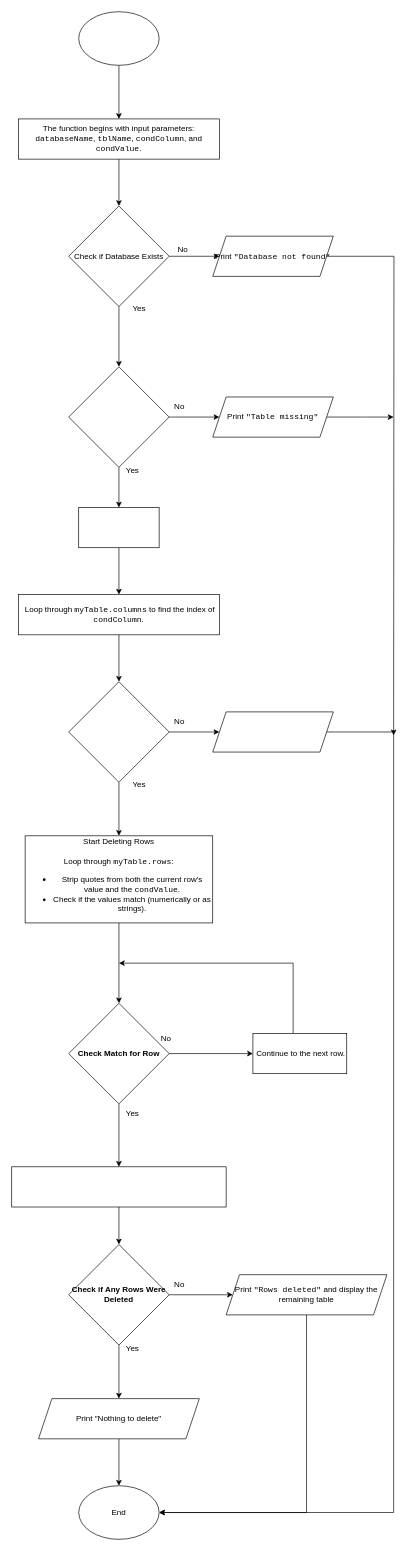
Some shapes in this 411 by 1551 pixel diagram are drawn without their labels. Each missing label, with the centre of its shape:
Check if Condition Column Found: the point at 118,731
Check if Table Exists: the point at 118,416
Delete the row, adjust the index ( r-- ), and mark didDelete = true .: the point at 118,1186
Print "Condition column not found": the point at 272,731
Proceed to retrieve the table.: the point at 118,527
Start: the point at 118,38
